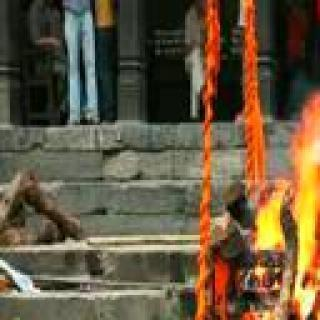fire: (254, 116, 320, 320)
